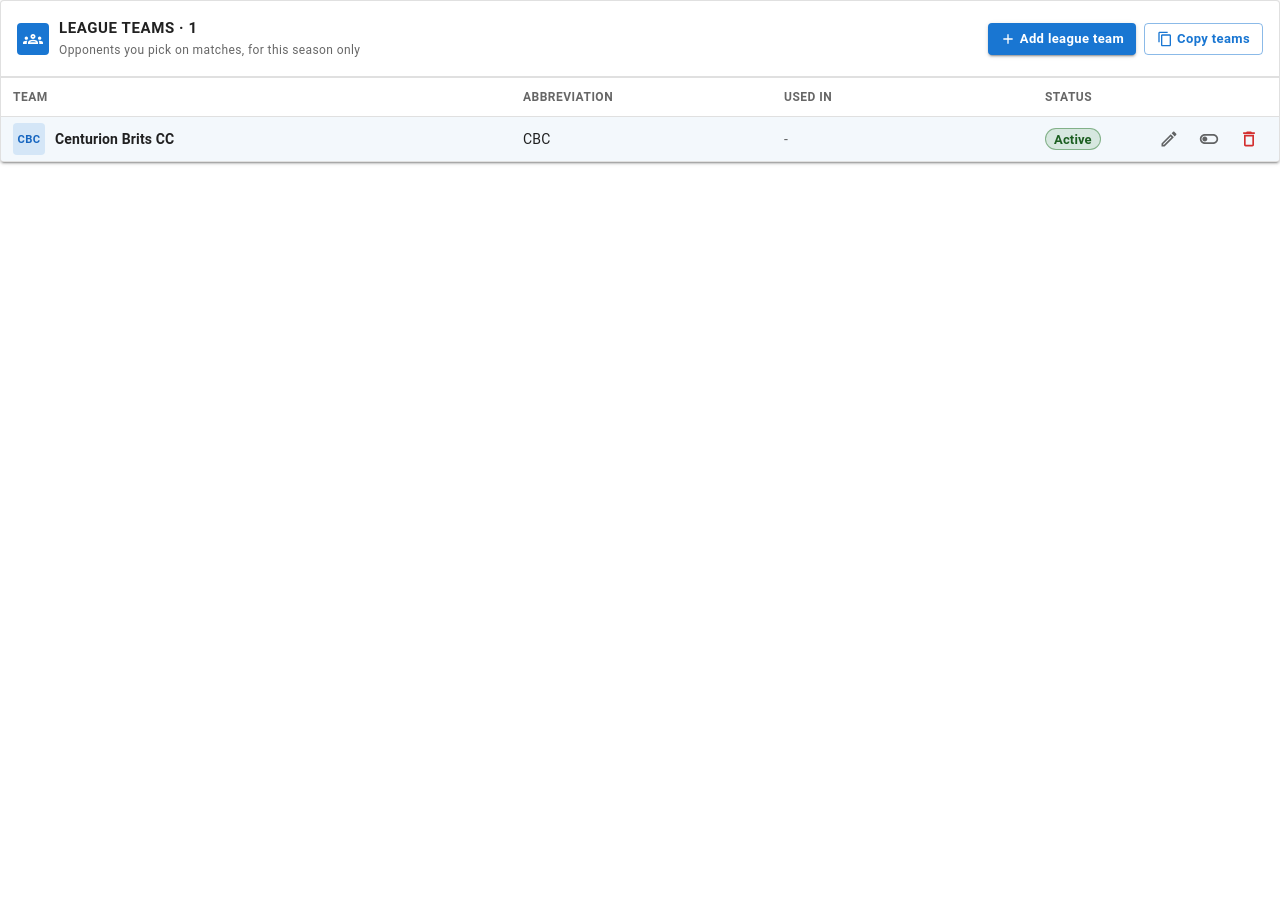
Test case: LeagueTeamsSection › confirms an unreferenced remove as a delete and reports the outcome
Click the button named "Remove Centurion Brits CC": (1249, 140) [1231,122,1267,158]
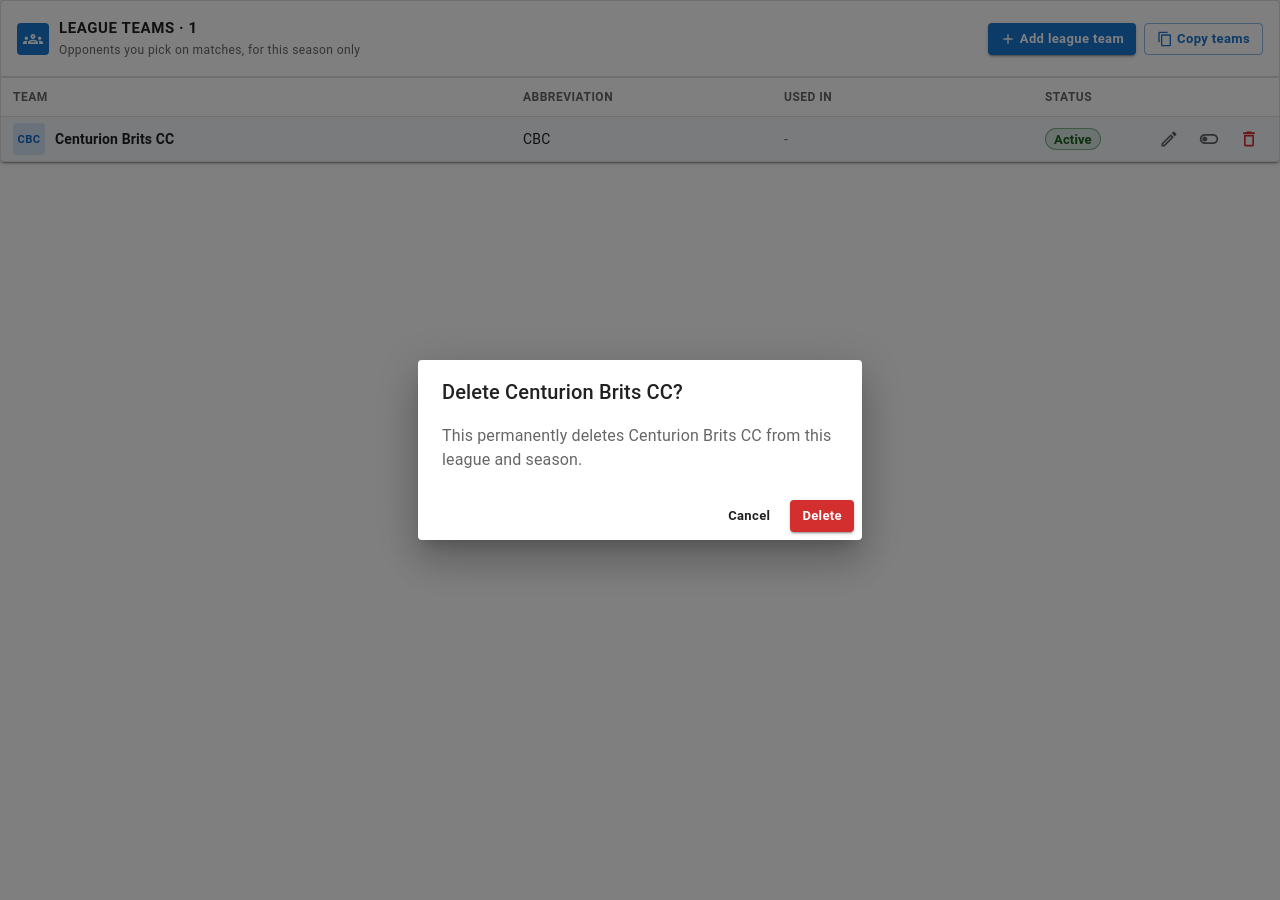
Expected: the heading "Delete Centurion Brits CC?" is shown, [442,380,683,404]
Click the button "Delete": (822, 516) [790,500,854,532]
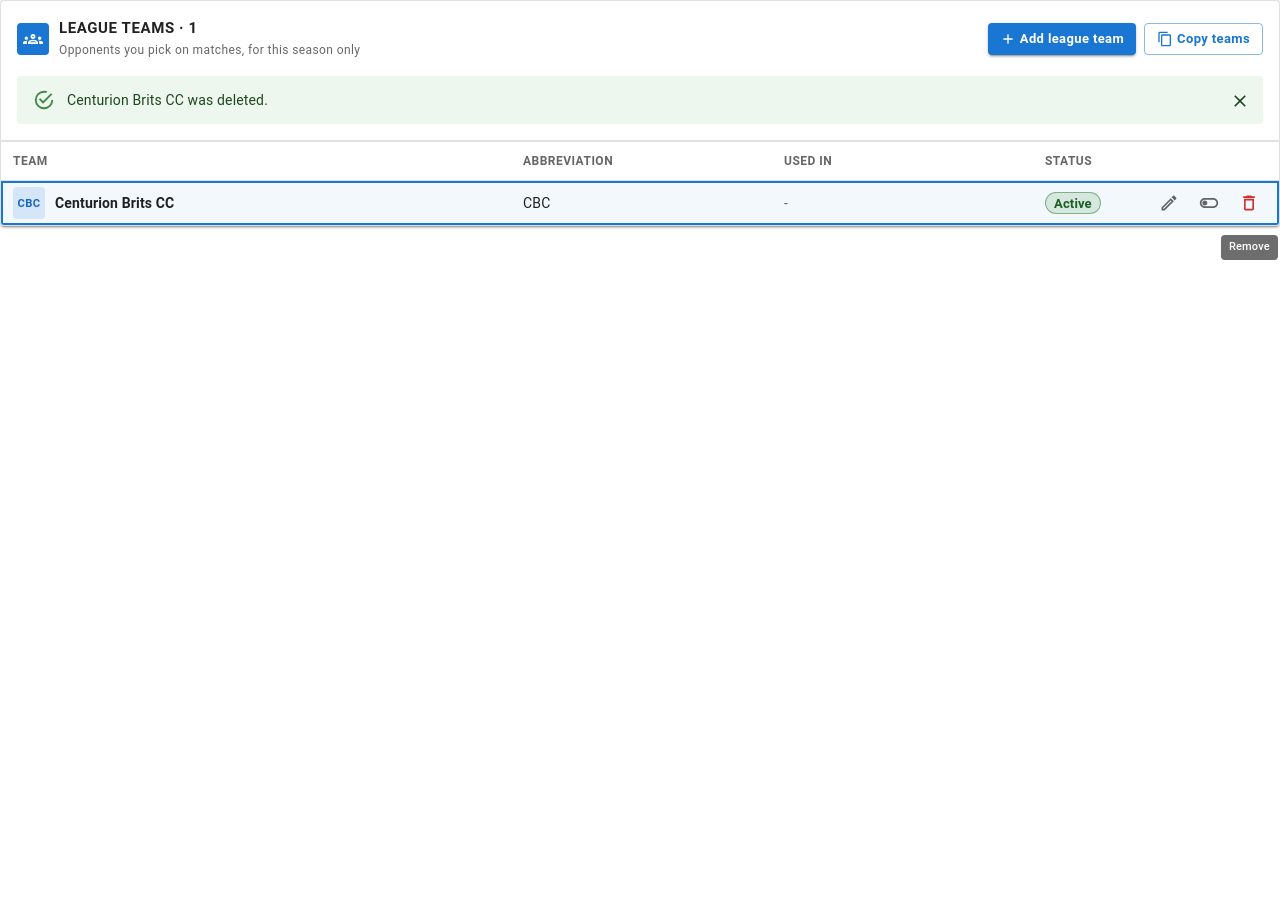
Expected: the text "Centurion Brits CC was deleted." is shown, [67,92,268,108]
